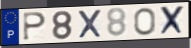8: (105, 7, 130, 39), (51, 10, 74, 41)
O: (133, 7, 158, 37)
P: (22, 11, 48, 42)
X: (158, 4, 185, 37), (77, 8, 104, 40)
